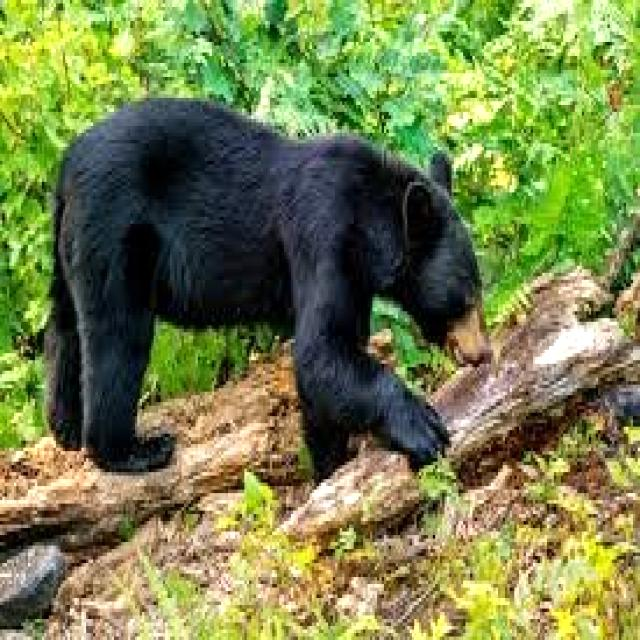bear: (34, 76, 508, 487)
